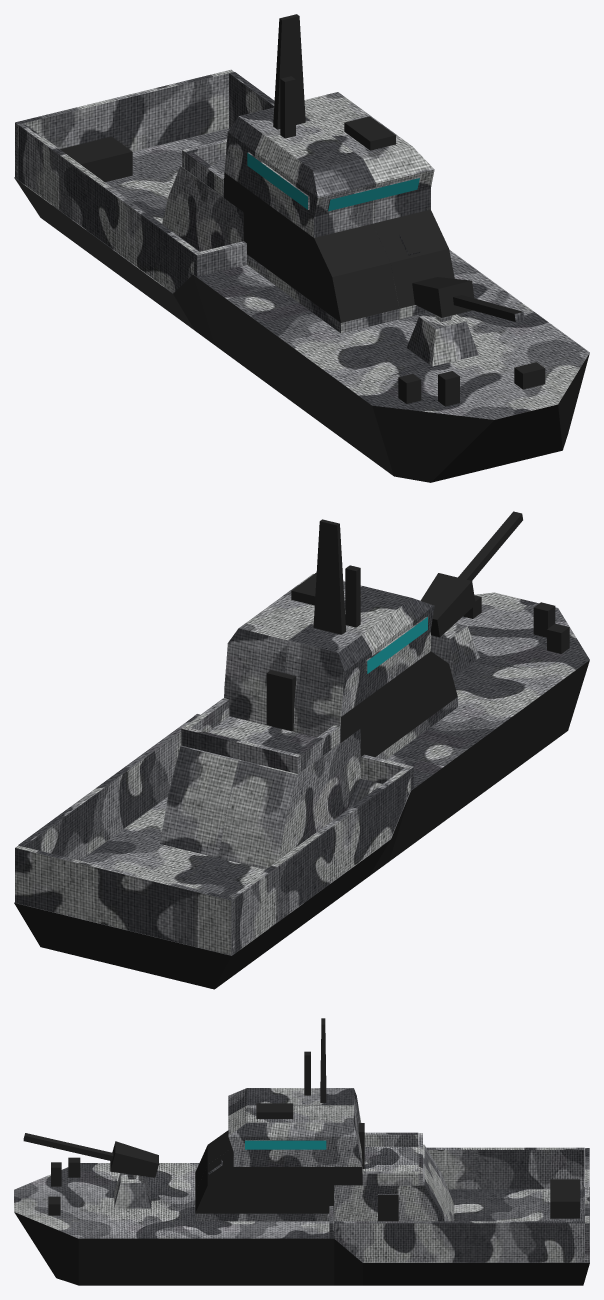
The model's file is ship.fbx.
The picture shows the model from 3 angles, top to bottom: view 1: azimuth 30°, elevation 25°; view 2: azimuth 150°, elevation 25°; view 3: azimuth 270°, elevation 25°; orthographic projection. The views are drawn at different scales.
Parts seen in each view (by area): view 1: Cube; view 2: Cube; view 3: Cube.
Boxes of the visible parts, x1=… form: Cube: x1=14, y1=14, x2=589, y2=482; Cube: x1=14, y1=511, x2=589, y2=989; Cube: x1=14, y1=1018, x2=589, y2=1285.
Size of the model in its own units: 377 by 525 by 1208.
Materials: 3 (1 with a texture image).
